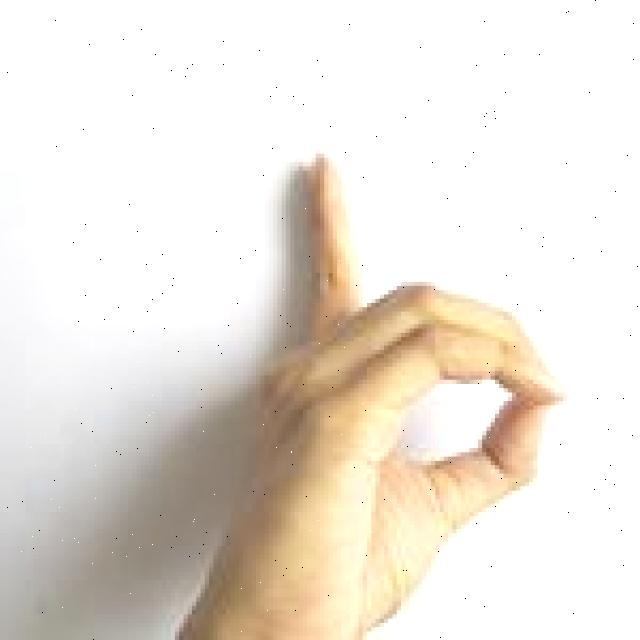D: (175, 149, 570, 640)
